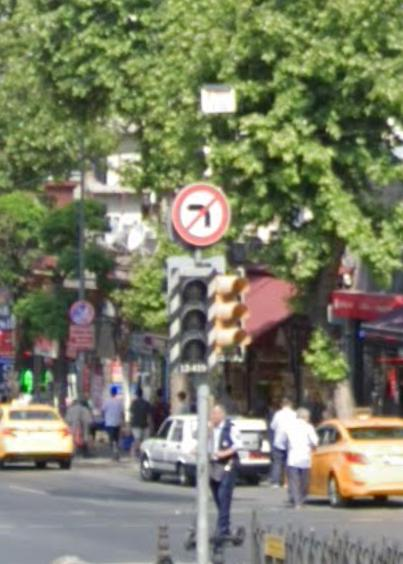leftturnsareforbidden: (166, 181, 235, 242)
